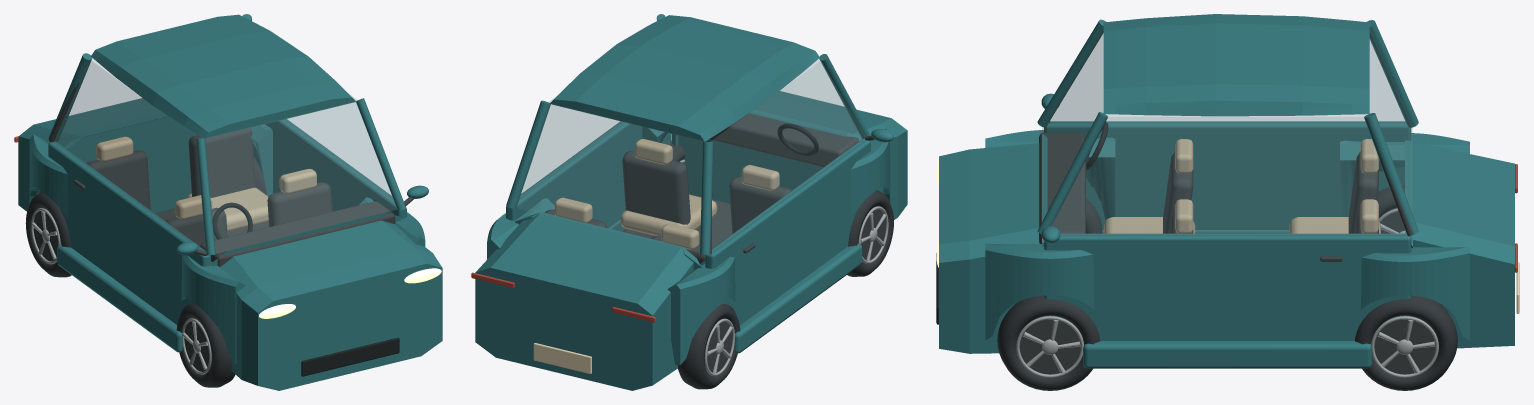
Rendered from mango_micro-3ba2b9ae3a2c.glb.
The picture shows the model from 3 angles, left to right: view 1: azimuth 30°, elevation 25°; view 2: azimuth 150°, elevation 25°; view 3: azimuth 270°, elevation 25°; orthographic projection. The views are drawn at different scales.
Visible parts, largest first — view 1: surface_#387e83 (×4), surface_Optical_smoke (×3), surface_graphite (×4), surface_linen, surface_rubber (×2), surface_black, surface_steel (×2), surface_lit; view 2: surface_#387e83 (×4), surface_Optical_smoke (×3), surface_graphite (×3), surface_linen, surface_rubber (×2), surface_steel (×2), surface_ivory, surface_red, surface_black; view 3: surface_#387e83 (×4), surface_Optical_smoke (×3), surface_graphite (×4), surface_rubber (×2), surface_linen, surface_steel (×2), surface_black.
Part boxes in pixels (x1,y1,x2,y2): surface_#387e83 (×4): (18,14,442,390); surface_Optical_smoke (×3): (54,59,396,252); surface_graphite (×4): (33,83,395,371); surface_linen: (96,136,316,232); surface_rubber (×2): (25,192,235,387); surface_black: (212,202,399,376); surface_steel (×2): (31,208,211,374); surface_lit: (259,268,441,318); surface_#387e83 (×4): (475,14,907,390); surface_Optical_smoke (×3): (516,59,864,252); surface_graphite (×3): (544,113,885,373); surface_linen: (554,139,779,249); surface_rubber (×2): (677,190,893,389); surface_steel (×2): (704,206,888,375); surface_ivory: (533,343,591,373); surface_red: (471,272,655,322); surface_black: (777,123,818,155); surface_#387e83 (×4): (939,14,1514,368); surface_Optical_smoke (×3): (1042,28,1412,234); surface_graphite (×4): (1019,132,1435,374); surface_rubber (×2): (997,295,1457,390); surface_linen: (1104,139,1380,233); surface_steel (×2): (1016,316,1438,377); surface_black: (936,122,1108,324).
Bounding box in the file's own units: 1.68 × 1.52 × 2.87.
Materials: 11 (1 with a texture image).
